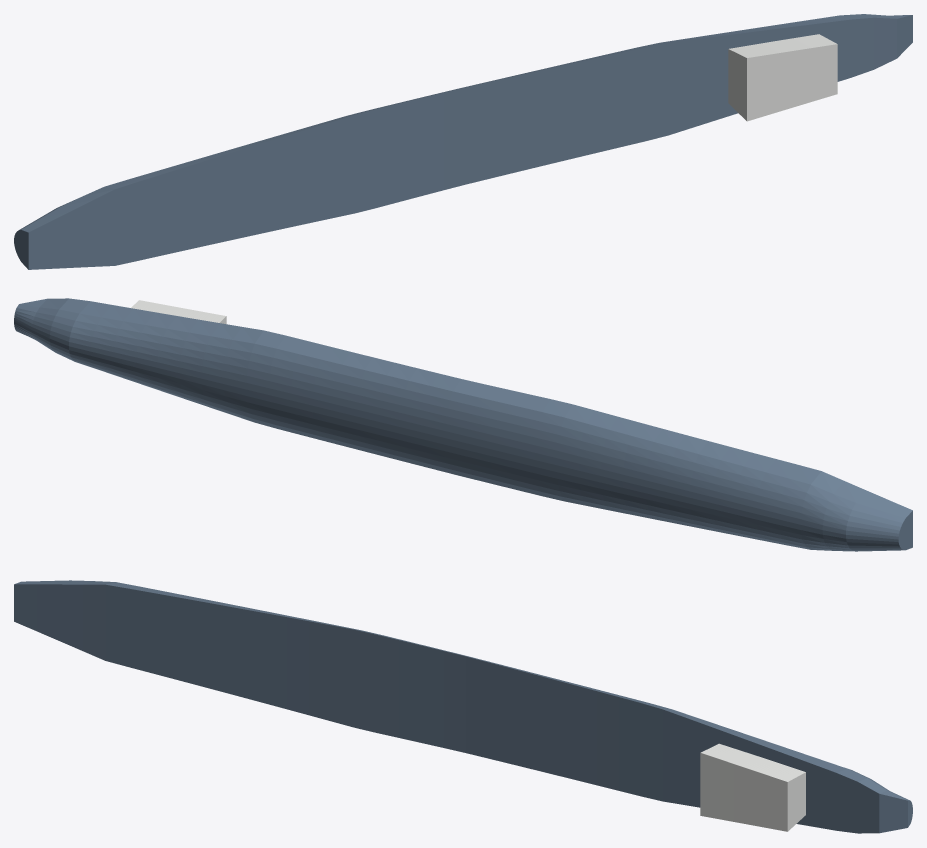
The model's file is loft-dragon-boat-sheered.glb.
3 renders of one model, top to bottom at view 1: azimuth 30°, elevation 25°; view 2: azimuth 150°, elevation 25°; view 3: azimuth 330°, elevation 25°, orthographic.
Visible parts, largest first — view 1: loft-dragon-boat-sheered; view 2: loft-dragon-boat-sheered; view 3: loft-dragon-boat-sheered.
Part boxes in pixels (x1,y1,x2,y2): loft-dragon-boat-sheered: [14, 14, 912, 269]; loft-dragon-boat-sheered: [14, 298, 912, 551]; loft-dragon-boat-sheered: [14, 580, 912, 833].
Size of the model in its own units: 1.78 by 0.1884 by 0.1368.
